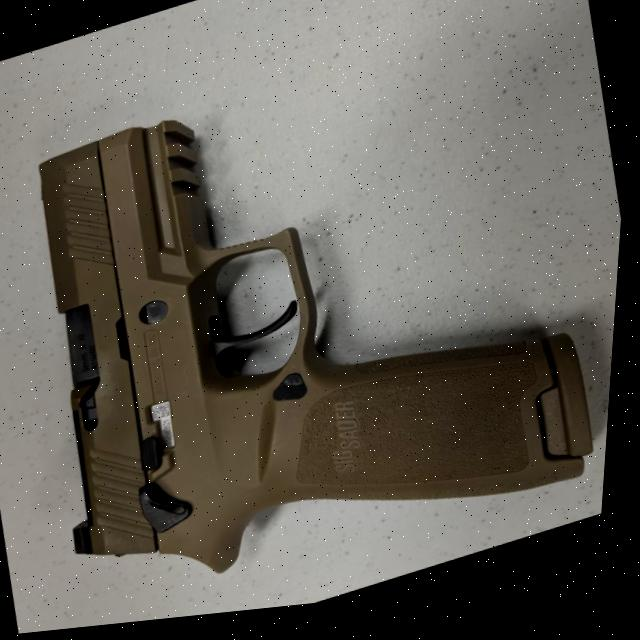gun: (39, 116, 597, 572)
